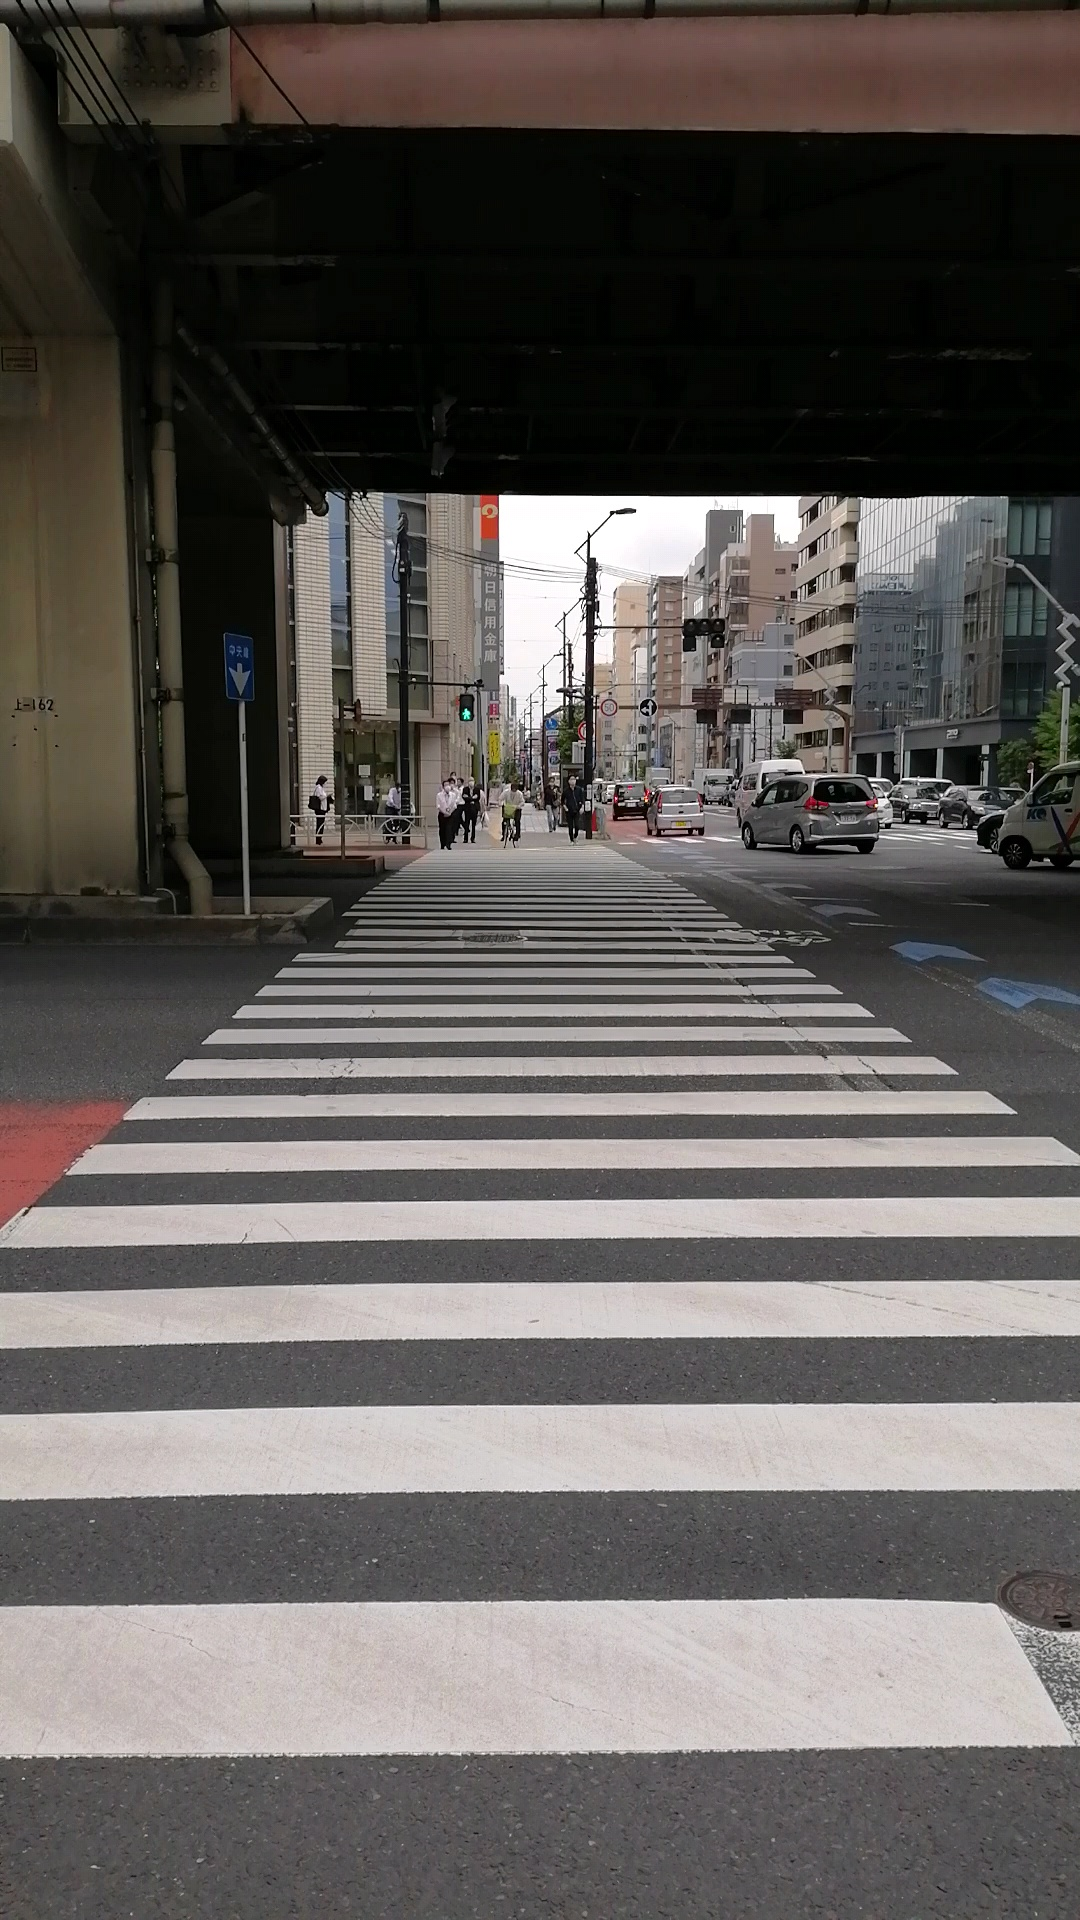green: (458, 694, 473, 721)
